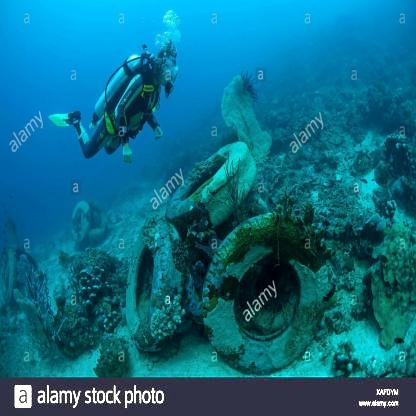tire: (199, 208, 334, 370), (115, 213, 188, 342), (164, 136, 258, 218)
